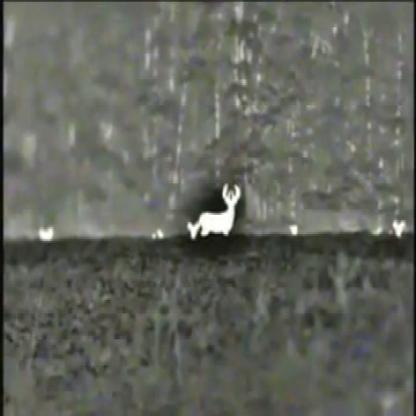rehkitze: (196, 181, 242, 239)
